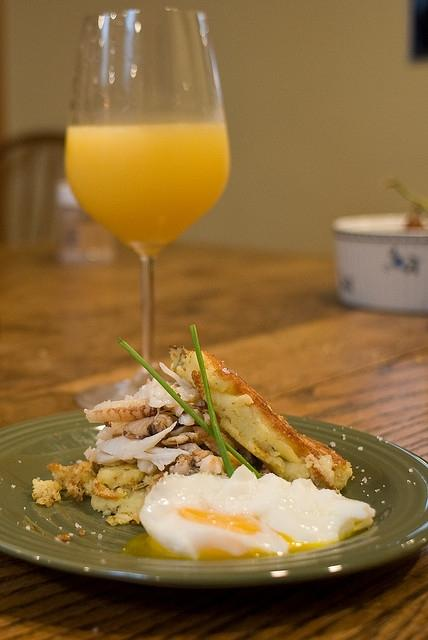green onion: (116, 337, 262, 479), (189, 324, 234, 476)
